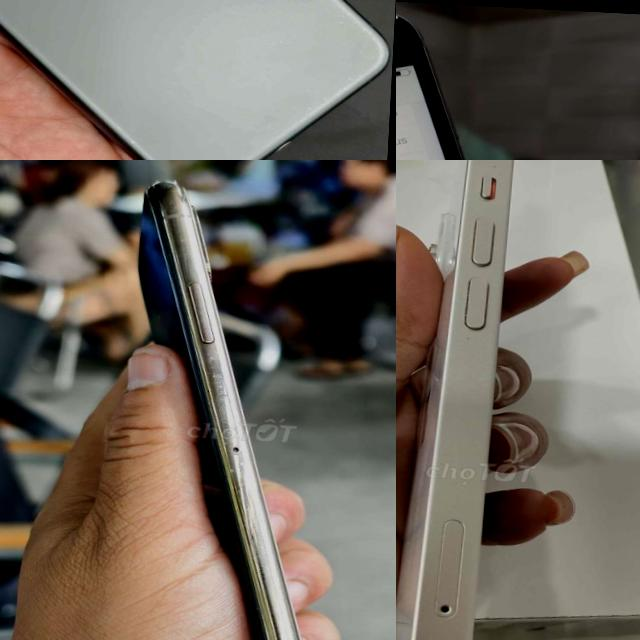gen_11: (0, 0, 388, 160)
gen_14: (396, 160, 530, 640)
gen_6: (396, 0, 612, 160)
gen_x_xs: (139, 182, 302, 640)
scratch: (186, 342, 253, 466), (144, 168, 186, 200), (170, 226, 196, 259), (218, 460, 250, 486), (154, 307, 170, 329)
